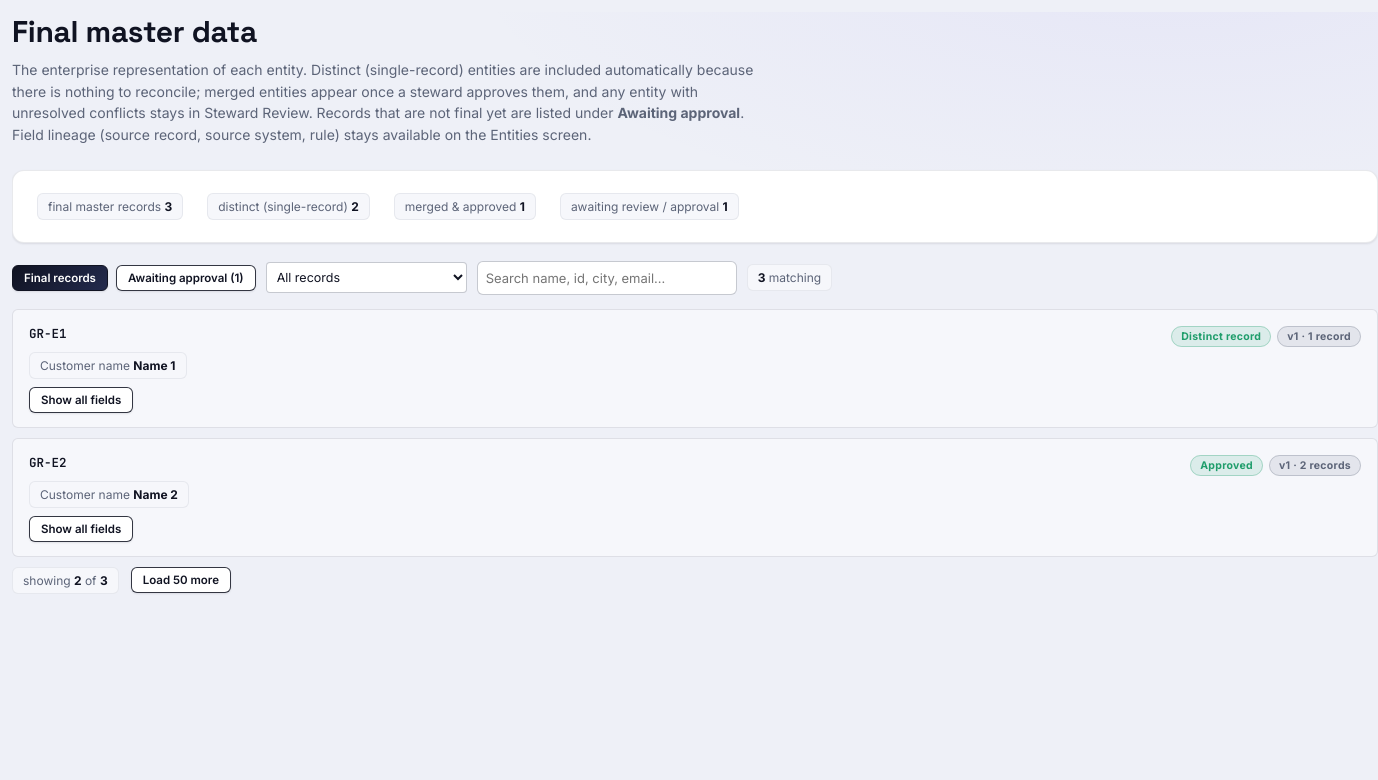
Test case: Journey P-S: navigation, master data, steward review, incoming form › Q: Final Master Data shows distinct records and loads more pages
The image size is (1378, 780).
Expected: the text "GR-E1" is shown, [29, 325, 66, 342]
Expected: the text "Distinct record" is shown once, [1171, 326, 1271, 347]
Click the button "Load 50 more" at {"x": 181, "y": 580}, box [131, 567, 231, 593]
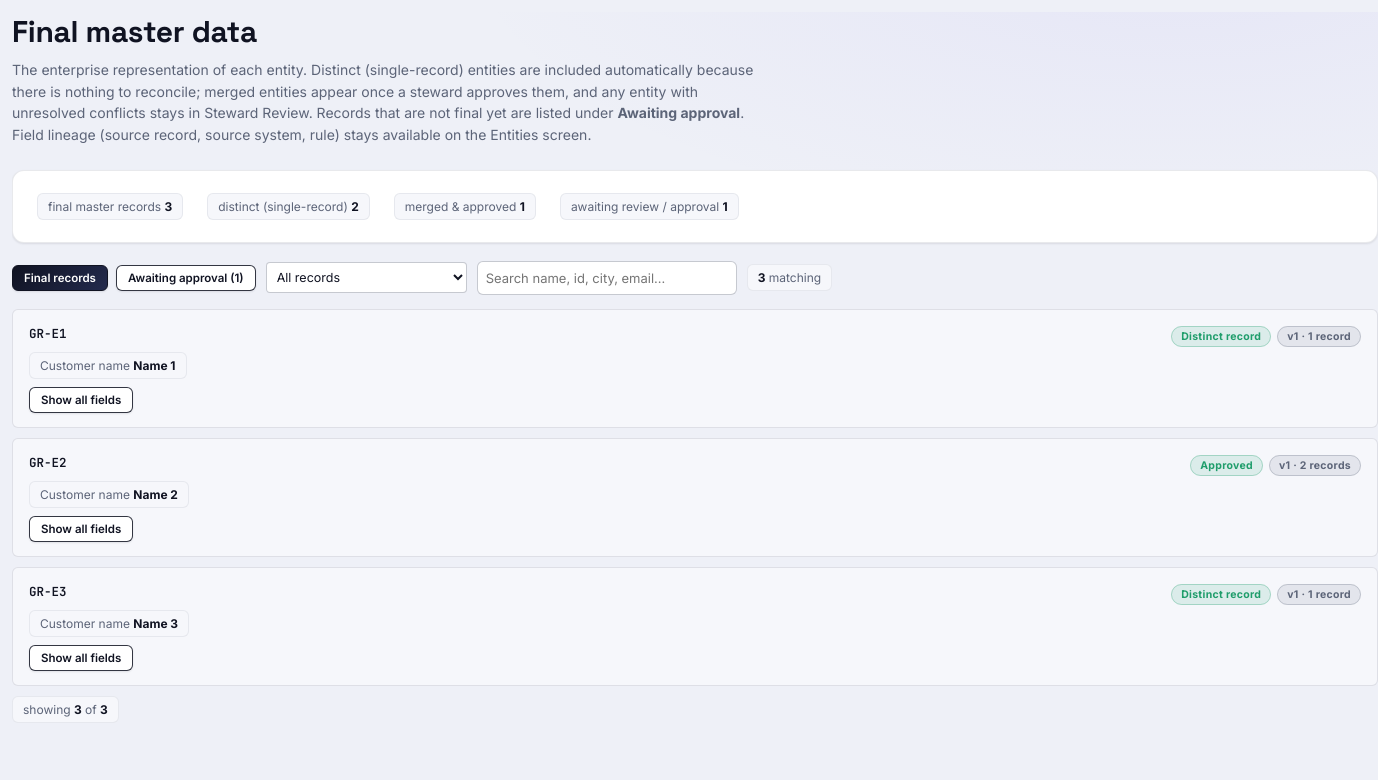
Result: the text "GR-E3" is shown at [29, 583, 66, 600]
Result: the button "Load 50 more" is gone
